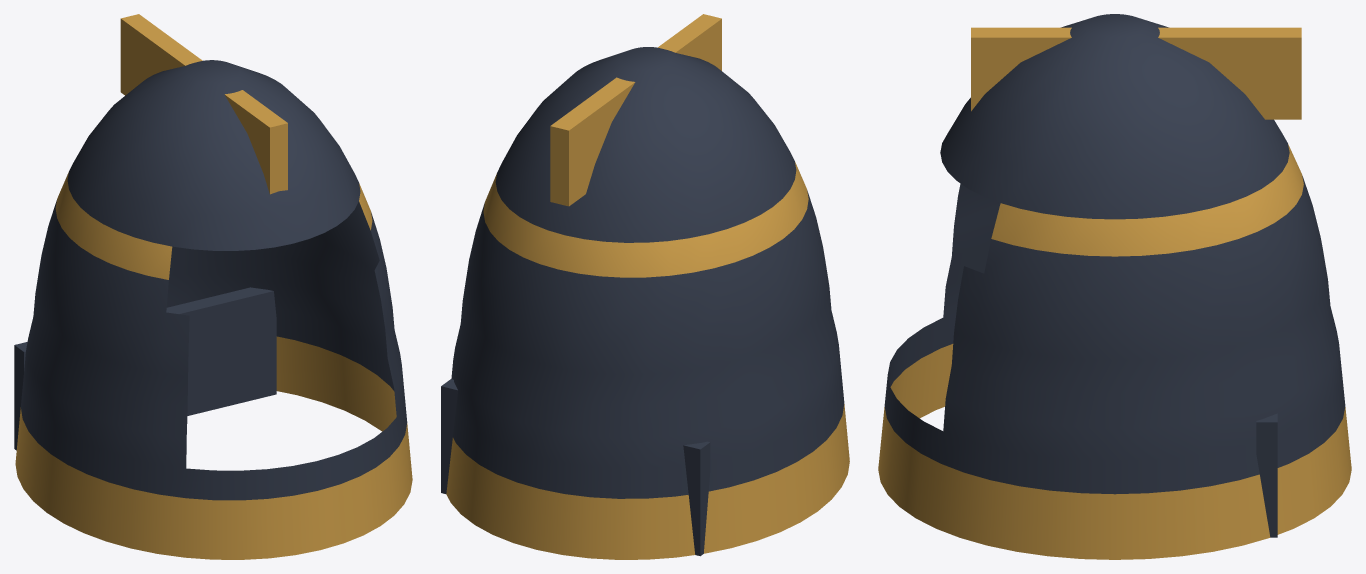
The model's file is armor_helmet_01.glb.
The picture shows the model from 3 angles, left to right: view 1: azimuth 30°, elevation 25°; view 2: azimuth 150°, elevation 25°; view 3: azimuth 270°, elevation 25°; orthographic projection. The views are drawn at different scales.
Parts seen in each view (by area): view 1: armor_helmet_01; view 2: armor_helmet_01; view 3: armor_helmet_01.
Part boxes in pixels (box(x1,y1,x2,y2)): armor_helmet_01: box(14, 14, 412, 559); armor_helmet_01: box(441, 14, 849, 559); armor_helmet_01: box(878, 14, 1351, 559).
Size of the model in its own units: 0.4028 by 0.46 by 0.4452.
